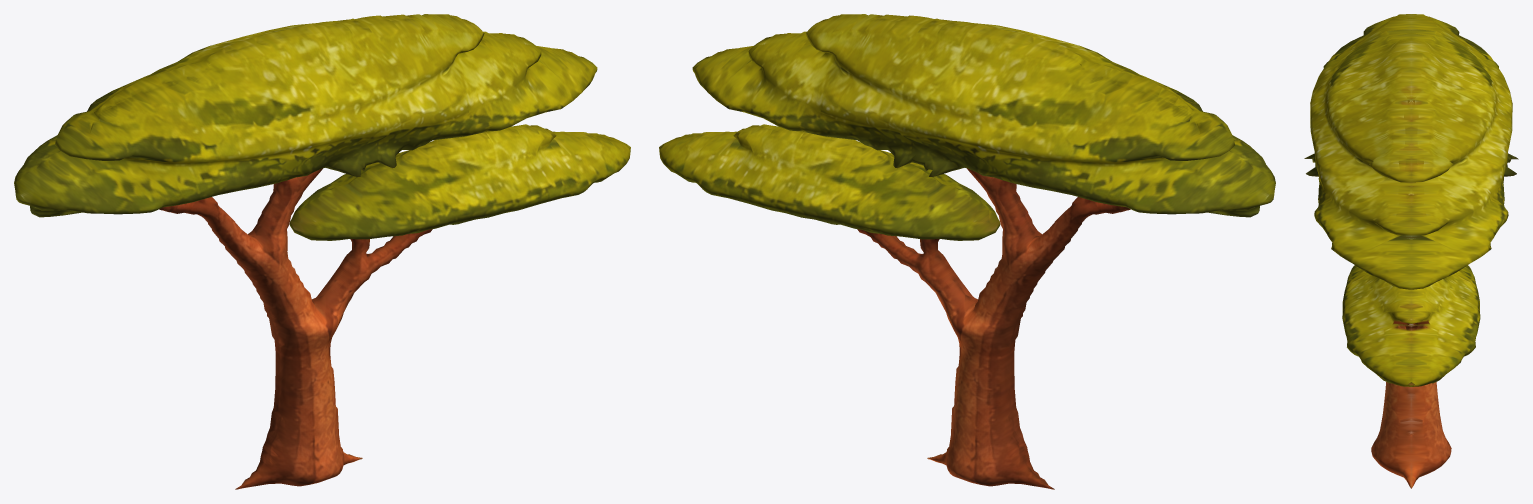
The model's file is 24_trees_c_r00_c01.glb.
The picture shows the model from 3 angles, left to right: view 1: azimuth 30°, elevation 25°; view 2: azimuth 150°, elevation 25°; view 3: azimuth 270°, elevation 25°; orthographic projection. The views are drawn at different scales.
Parts seen in each view (by area): view 1: 24_trees_c_r00_c01; view 2: 24_trees_c_r00_c01; view 3: 24_trees_c_r00_c01.
Part boxes in pixels (x1,y1,x2,y2): 24_trees_c_r00_c01: [14, 14, 630, 489]; 24_trees_c_r00_c01: [659, 14, 1275, 489]; 24_trees_c_r00_c01: [1304, 14, 1518, 488].
Size of the model in its own units: 6.33 by 4.4 by 2.17.
Materials: 1 (1 with a texture image).
